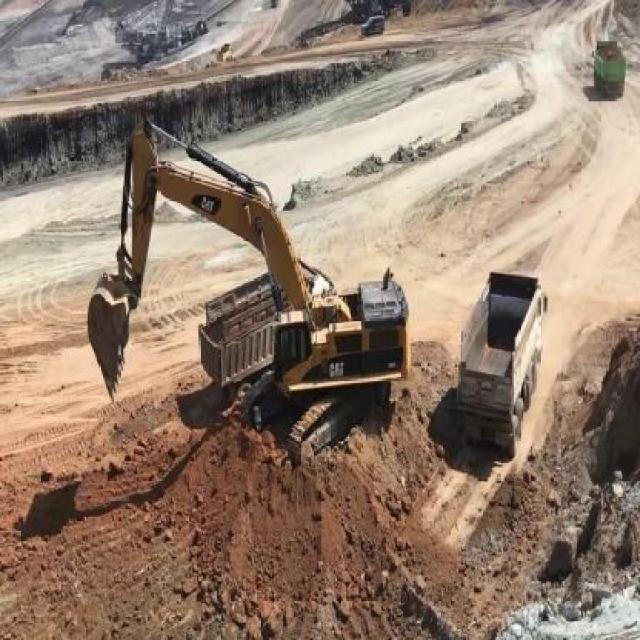Dump Truck: (456, 270, 547, 465), (192, 276, 271, 384), (591, 38, 627, 102)
Excavator: (90, 117, 413, 471)
